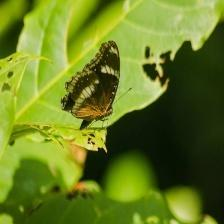butterfly: (61, 41, 121, 130)
